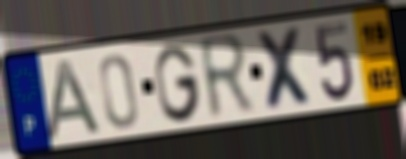0: (96, 51, 140, 131)
5: (312, 19, 354, 102)
A: (43, 57, 105, 143)
G: (151, 41, 204, 125)
R: (195, 29, 258, 125)
X: (252, 24, 319, 113)
